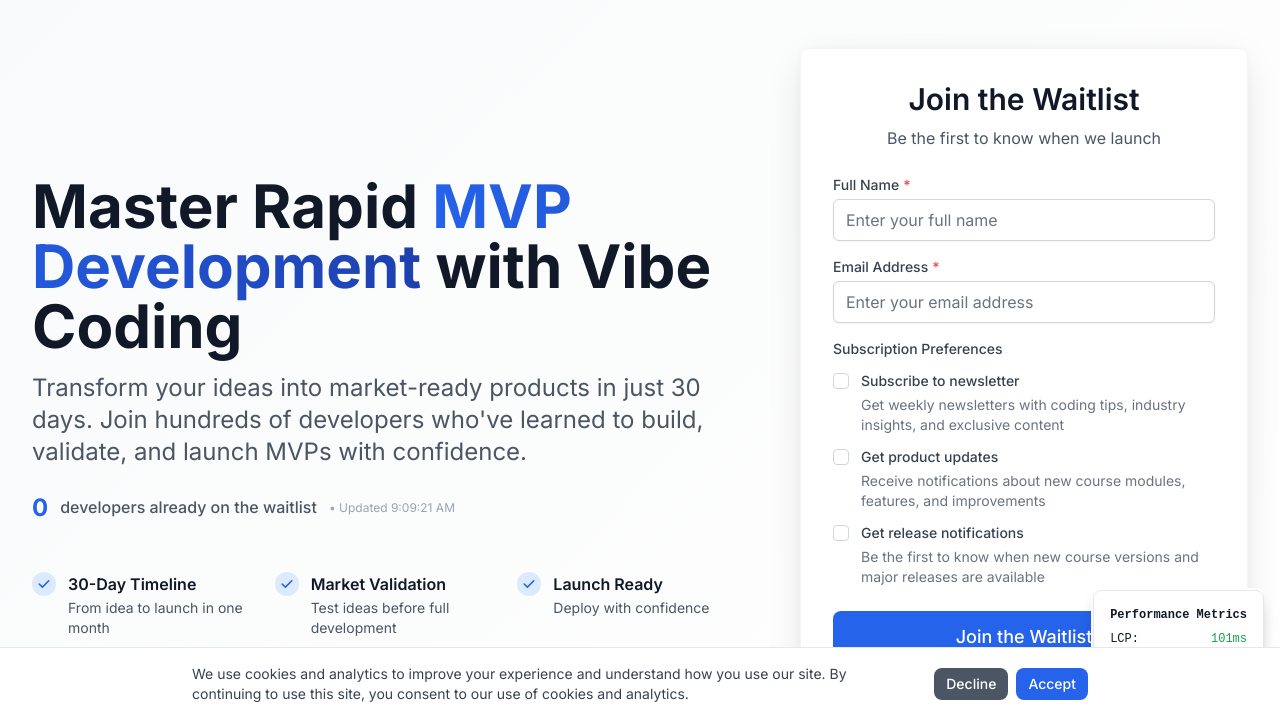
it: Landing Page › submits form successfully
// Fill form
In the field named "name": (1024,220) [833,199,1215,241], type "John Doe"
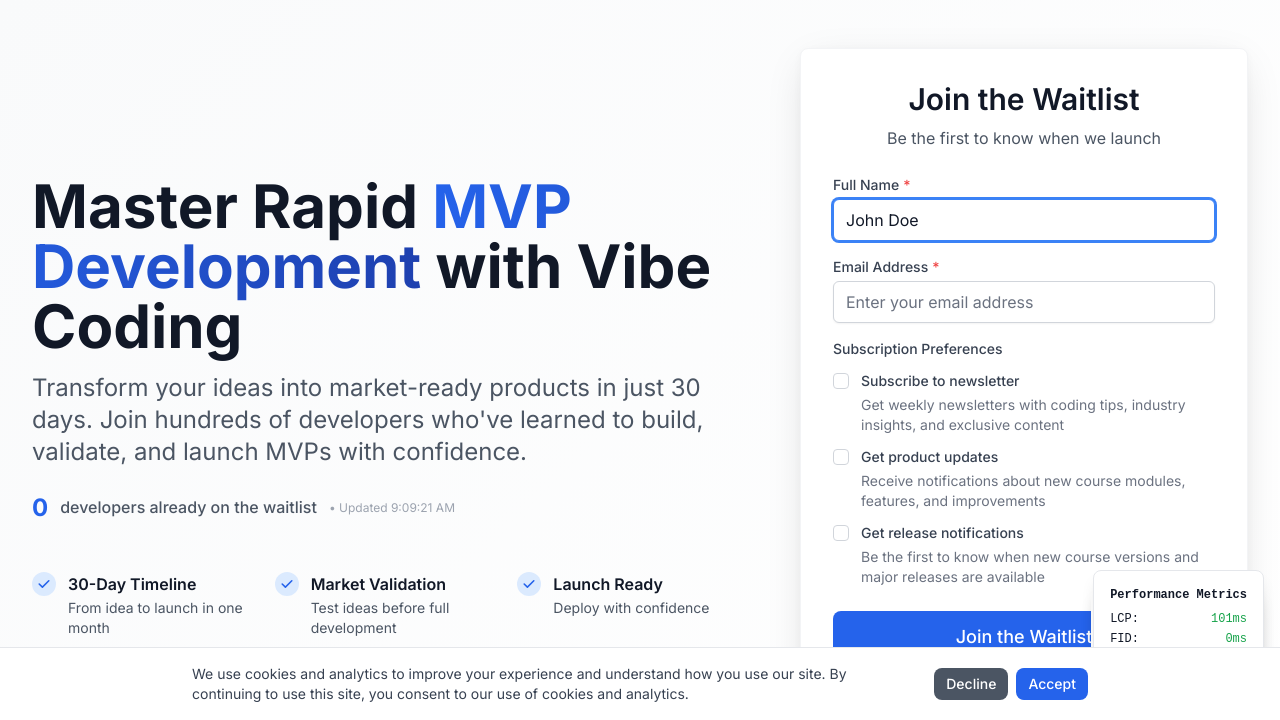
In the field named "email": (1024,302) [833,281,1215,323], type "john@example.com"
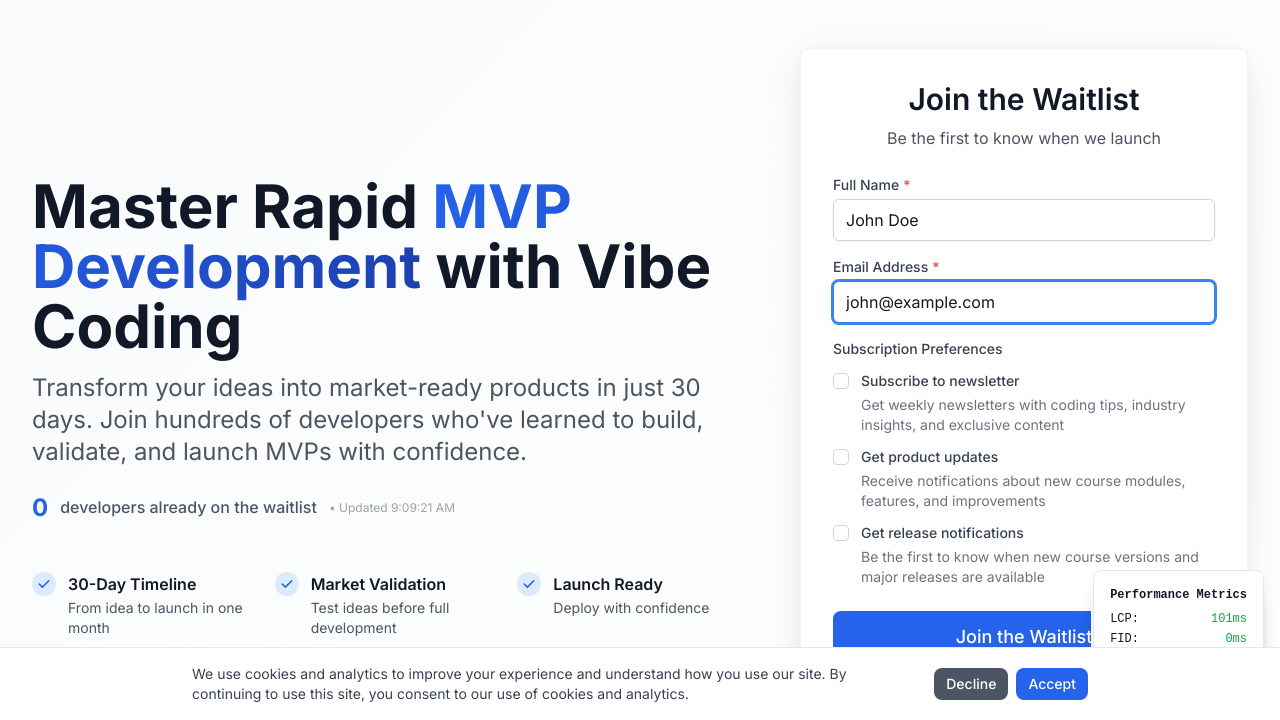
Check the checkbox named "subscribe_updates": (841,457) [833,449,849,465]
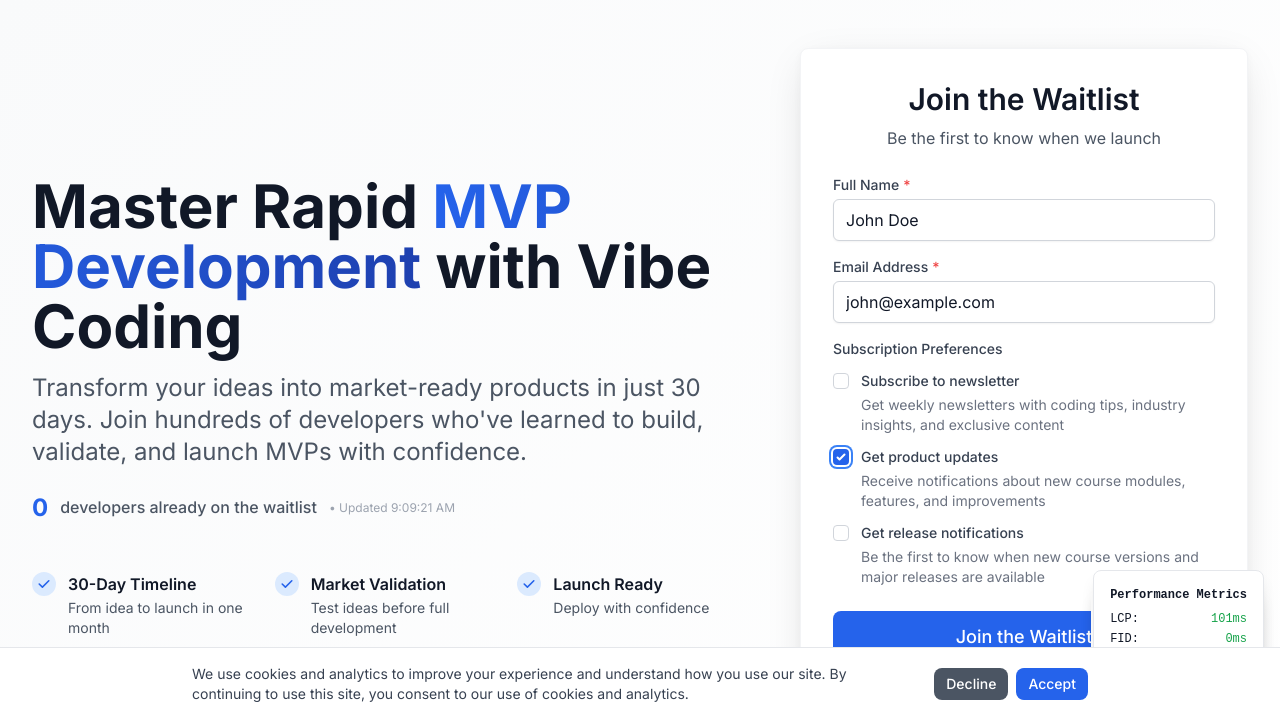
// Submit form
Click the submit button: (1024,637) [833,611,1215,663]
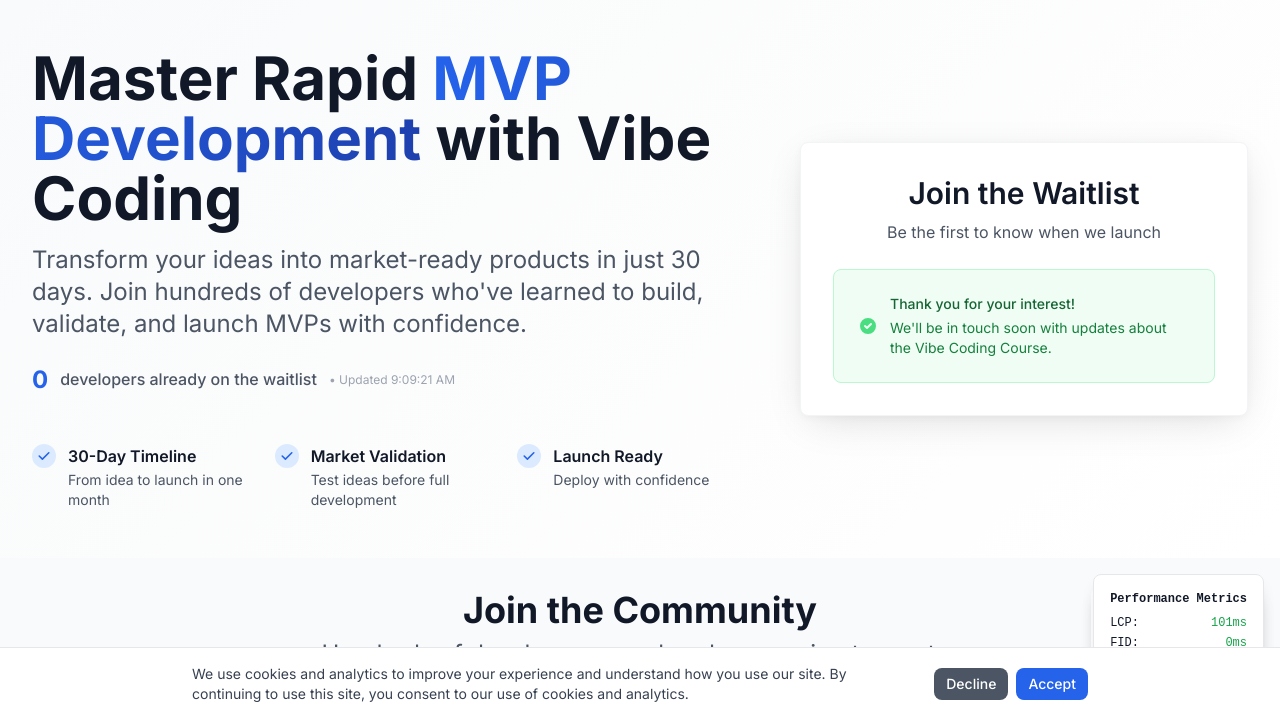
Expected: the heading "Thank you for your interest!" is shown, [890,295,1075,312]
